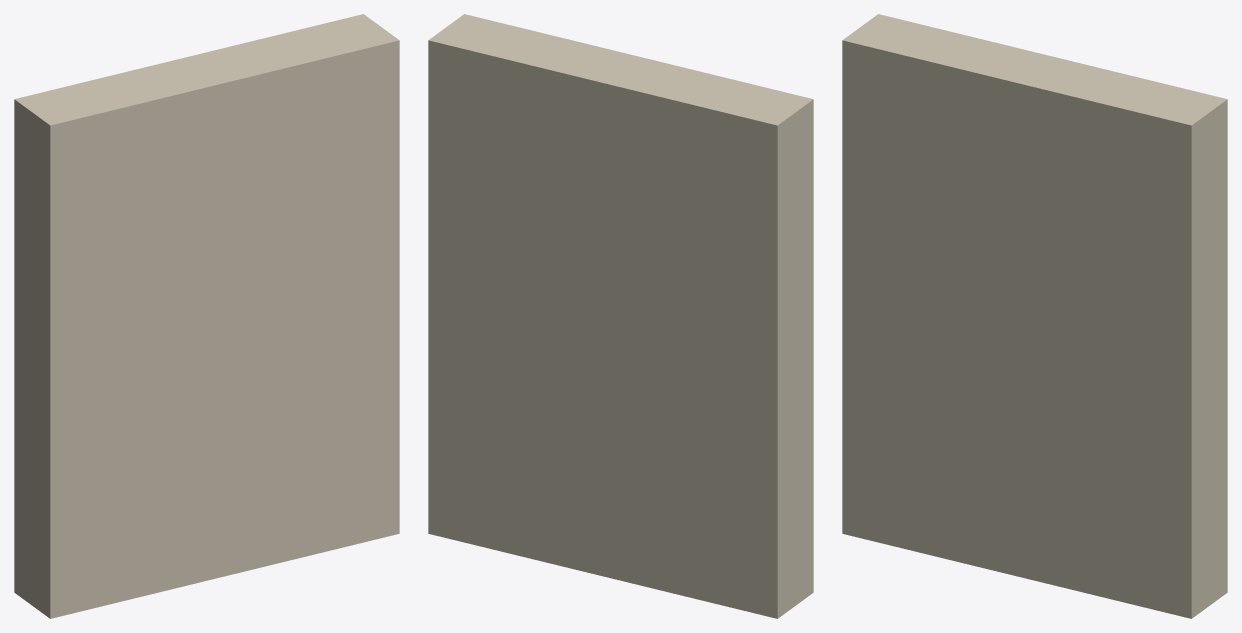
The model's file is P025-blockout-v1.glb.
3 views of the same model, side by side, from view 1: azimuth 30°, elevation 25°; view 2: azimuth 150°, elevation 25°; view 3: azimuth 330°, elevation 25° (orthographic).
Parts seen in each view (by area): view 1: 主體; view 2: 主體; view 3: 主體.
Boxes of the visible parts, x1,y1,x2,y2 form: 主體: [14, 14, 399, 618]; 主體: [428, 14, 813, 618]; 主體: [842, 14, 1227, 618].
Size of the model in its own units: 0.14 by 0.189 by 0.025.
